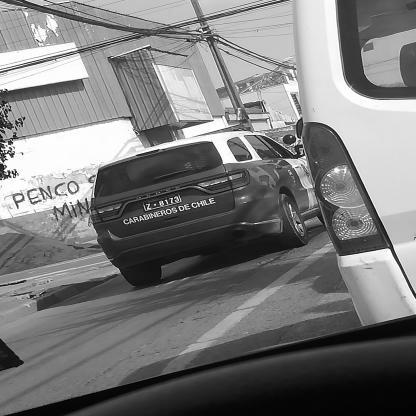Patente: (141, 192, 186, 214)
